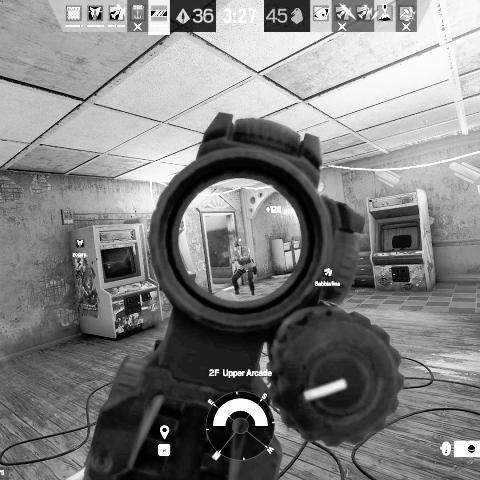Character: (229, 240, 258, 296)
Friend_label: (314, 267, 343, 287), (72, 237, 88, 258)
Head: (231, 241, 240, 250)
